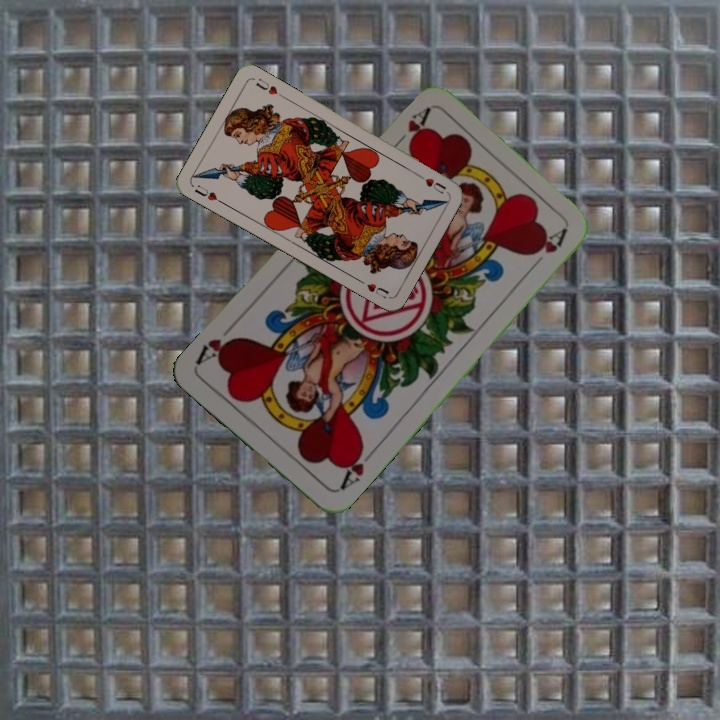HA: (387, 104, 433, 153), (333, 441, 367, 494)
HU: (412, 170, 449, 197), (190, 181, 226, 207)
